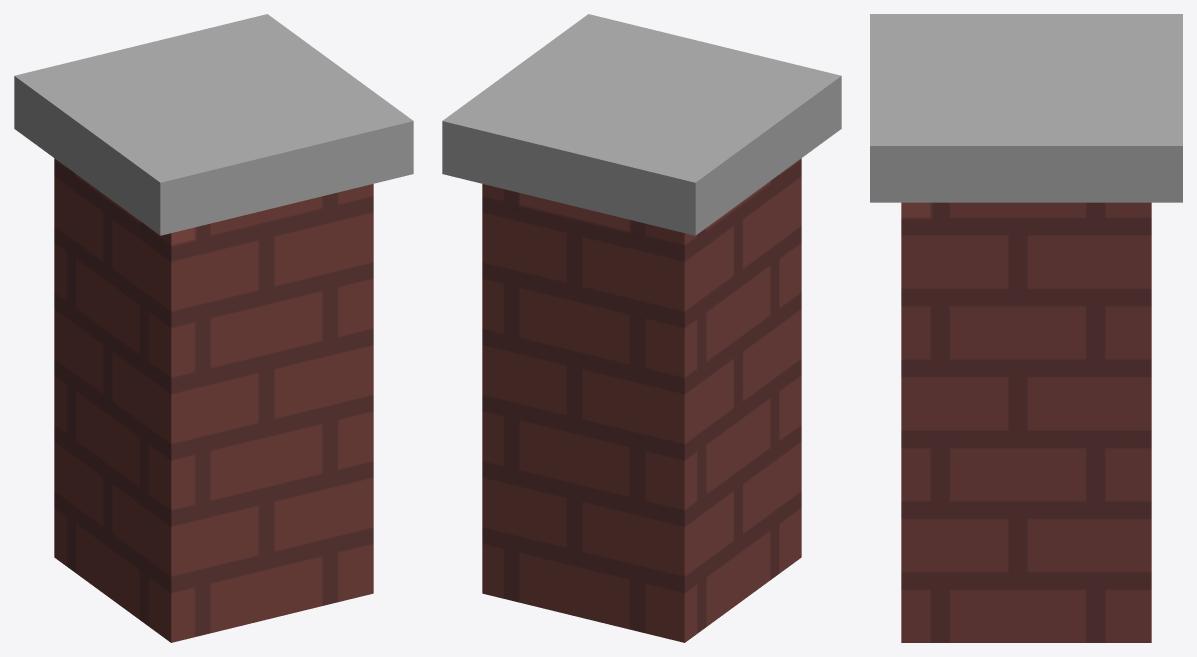
Rendered from SM_wallAttic_02_corner.glb.
3 renders of one model, left to right at view 1: azimuth 30°, elevation 25°; view 2: azimuth 150°, elevation 25°; view 3: azimuth 270°, elevation 25°, orthographic. The views are drawn at different scales.
Visible parts, largest first — view 1: SM_wallAttic_02_corner; view 2: SM_wallAttic_02_corner; view 3: SM_wallAttic_02_corner.
Part boxes in pixels (x1,y1,x2,y2): SM_wallAttic_02_corner: [14, 14, 413, 642]; SM_wallAttic_02_corner: [442, 14, 841, 642]; SM_wallAttic_02_corner: [870, 14, 1182, 642].
Bounding box in the file's own units: 0.5 × 0.9 × 0.5.
Materials: 2 (2 with a texture image).
